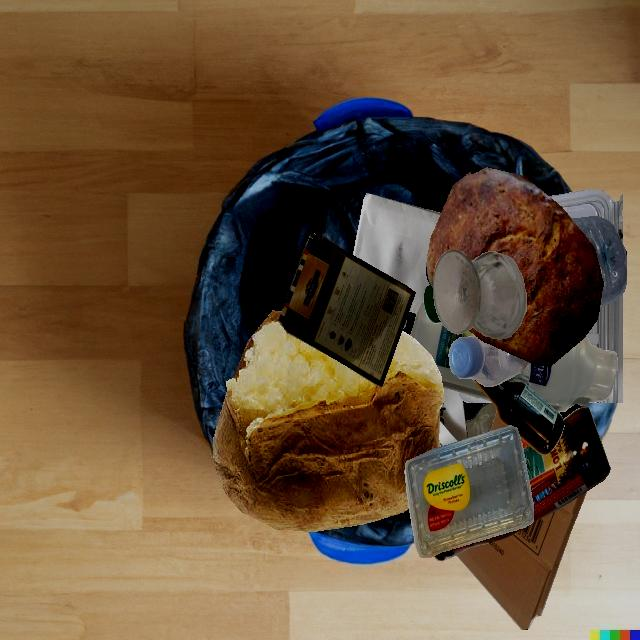biowaste: (212, 311, 445, 531), (426, 167, 603, 367)
cardboard: (278, 234, 415, 386), (456, 491, 587, 630)
glass: (523, 407, 610, 519), (433, 250, 527, 340), (472, 379, 564, 455), (465, 403, 497, 438), (426, 267, 433, 291), (402, 319, 406, 329)
paper: (353, 193, 441, 314), (439, 386, 468, 447)
plastic: (487, 220, 611, 400), (404, 425, 534, 558), (507, 334, 618, 412), (410, 301, 491, 400), (571, 216, 627, 308), (449, 334, 529, 387), (549, 189, 623, 245)
